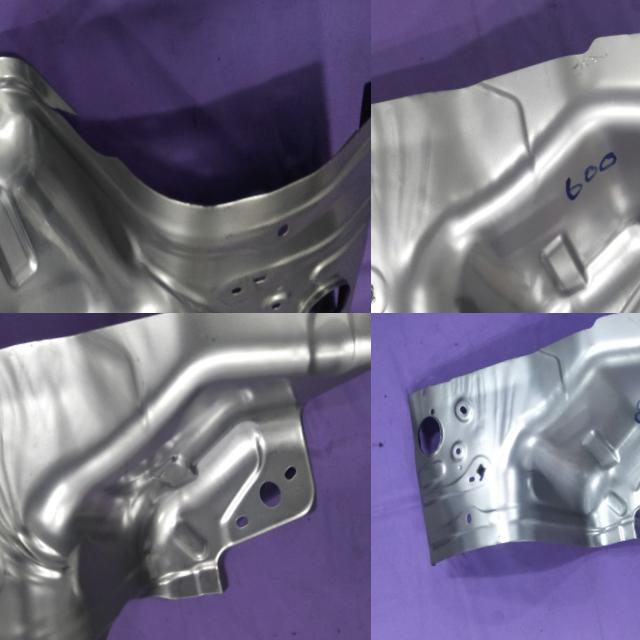Defect: (63, 563, 203, 640), (31, 86, 124, 172)
Healthy: (371, 7, 640, 313), (387, 313, 640, 587)
